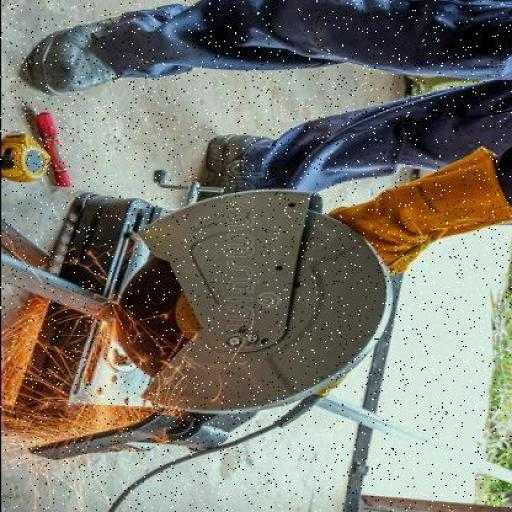safety_shoe: (21, 10, 155, 96), (194, 130, 277, 206)
